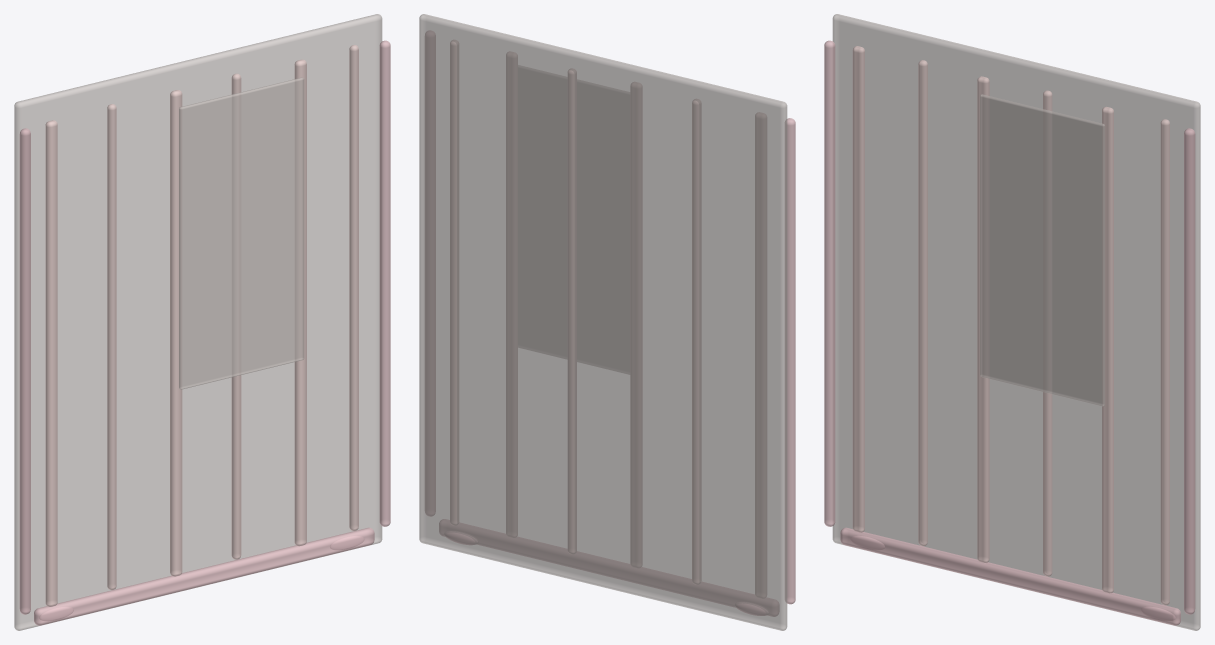
File: 目标图薄纱窗帘.fbx
3 views of the same model, side by side, from view 1: azimuth 30°, elevation 25°; view 2: azimuth 150°, elevation 25°; view 3: azimuth 330°, elevation 25° (orthographic).
Parts seen in each view (by area): view 1: 目标图薄纱窗帘_通透主纱_v102, 目标图薄纱窗帘_v234_透光中部柔亮面, 目标图薄纱窗帘_柔软下摆线_v102, 目标图薄纱窗帘_波浪细竖褶皱_v102, 目标图薄纱窗帘_波浪细竖褶皱_v102.002, 目标图薄纱窗帘_波浪细竖褶皱_v102.004, 目标图薄纱窗帘_v234_两侧轻薄卷边.001, 目标图薄纱窗帘_v234_两侧轻薄卷边, 目标图薄纱窗帘_波浪细竖褶皱_v102.001, 目标图薄纱窗帘_波浪细竖褶皱_v102.005, 目标图薄纱窗帘_波浪细竖褶皱_v102.003; view 2: 目标图薄纱窗帘_通透主纱_v102, 目标图薄纱窗帘_v234_透光中部柔亮面, 目标图薄纱窗帘_波浪细竖褶皱_v102.002, 目标图薄纱窗帘_波浪细竖褶皱_v102, 目标图薄纱窗帘_波浪细竖褶皱_v102.004, 目标图薄纱窗帘_柔软下摆线_v102, 目标图薄纱窗帘_v234_两侧轻薄卷边, 目标图薄纱窗帘_v234_两侧轻薄卷边.001, 目标图薄纱窗帘_波浪细竖褶皱_v102.001, 目标图薄纱窗帘_波浪细竖褶皱_v102.003, 目标图薄纱窗帘_波浪细竖褶皱_v102.005; view 3: 目标图薄纱窗帘_通透主纱_v102, 目标图薄纱窗帘_v234_透光中部柔亮面, 目标图薄纱窗帘_柔软下摆线_v102, 目标图薄纱窗帘_波浪细竖褶皱_v102.002, 目标图薄纱窗帘_波浪细竖褶皱_v102, 目标图薄纱窗帘_波浪细竖褶皱_v102.004, 目标图薄纱窗帘_v234_两侧轻薄卷边, 目标图薄纱窗帘_v234_两侧轻薄卷边.001, 目标图薄纱窗帘_波浪细竖褶皱_v102.005, 目标图薄纱窗帘_波浪细竖褶皱_v102.001, 目标图薄纱窗帘_波浪细竖褶皱_v102.003.
Boxes of the visible parts, <box> form: 目标图薄纱窗帘_通透主纱_v102: <box>14,14,382,630</box>; 目标图薄纱窗帘_v234_透光中部柔亮面: <box>179,77,304,389</box>; 目标图薄纱窗帘_柔软下摆线_v102: <box>34,527,374,625</box>; 目标图薄纱窗帘_波浪细竖褶皱_v102: <box>45,120,57,606</box>; 目标图薄纱窗帘_波浪细竖褶皱_v102.002: <box>170,90,182,576</box>; 目标图薄纱窗帘_波浪细竖褶皱_v102.004: <box>294,59,306,546</box>; 目标图薄纱窗帘_v234_两侧轻薄卷边.001: <box>379,40,390,526</box>; 目标图薄纱窗帘_v234_两侧轻薄卷边: <box>19,128,30,614</box>; 目标图薄纱窗帘_波浪细竖褶皱_v102.001: <box>107,104,116,589</box>; 目标图薄纱窗帘_波浪细竖褶皱_v102.005: <box>349,45,358,530</box>; 目标图薄纱窗帘_波浪细竖褶皱_v102.003: <box>231,73,241,559</box>; 目标图薄纱窗帘_通透主纱_v102: <box>419,14,787,630</box>; 目标图薄纱窗帘_v234_透光中部柔亮面: <box>518,65,629,374</box>; 目标图薄纱窗帘_波浪细竖褶皱_v102.002: <box>630,82,642,567</box>; 目标图薄纱窗帘_波浪细竖褶皱_v102: <box>755,112,766,598</box>; 目标图薄纱窗帘_波浪细竖褶皱_v102.004: <box>506,51,517,537</box>; 目标图薄纱窗帘_柔软下摆线_v102: <box>439,519,779,616</box>; 目标图薄纱窗帘_v234_两侧轻薄卷边: <box>785,118,795,604</box>; 目标图薄纱窗帘_v234_两侧轻薄卷边.001: <box>425,30,435,516</box>; 目标图薄纱窗帘_波浪细竖褶皱_v102.001: <box>692,99,701,584</box>; 目标图薄纱窗帘_波浪细竖褶皱_v102.003: <box>568,68,576,554</box>; 目标图薄纱窗帘_波浪细竖褶皱_v102.005: <box>450,40,458,525</box>; 目标图薄纱窗帘_通透主纱_v102: <box>832,14,1200,630</box>; 目标图薄纱窗帘_v234_透光中部柔亮面: <box>980,94,1104,406</box>; 目标图薄纱窗帘_柔软下摆线_v102: <box>840,527,1180,625</box>; 目标图薄纱窗帘_波浪细竖褶皱_v102.002: <box>977,76,989,562</box>; 目标图薄纱窗帘_波浪细竖褶皱_v102: <box>852,46,864,532</box>; 目标图薄纱窗帘_波浪细竖褶皱_v102.004: <box>1102,106,1113,593</box>; 目标图薄纱窗帘_v234_两侧轻薄卷边: <box>824,40,835,526</box>; 目标图薄纱窗帘_v234_两侧轻薄卷边.001: <box>1184,128,1195,614</box>; 目标图薄纱窗帘_波浪细竖褶皱_v102.005: <box>1160,119,1169,605</box>; 目标图薄纱窗帘_波浪细竖褶皱_v102.001: <box>918,60,927,546</box>; 目标图薄纱窗帘_波浪细竖褶皱_v102.003: <box>1043,90,1052,576</box>.
Bounding box in the file's own units: 107 × 146 × 6.1.
